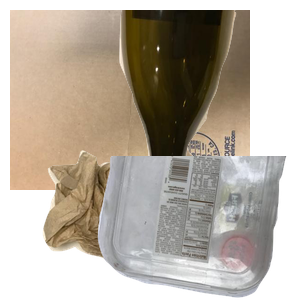cardboard: (10, 10, 250, 190)
glass: (117, 10, 300, 190)
plastic: (95, 156, 300, 300)
trash: (40, 138, 280, 300)
